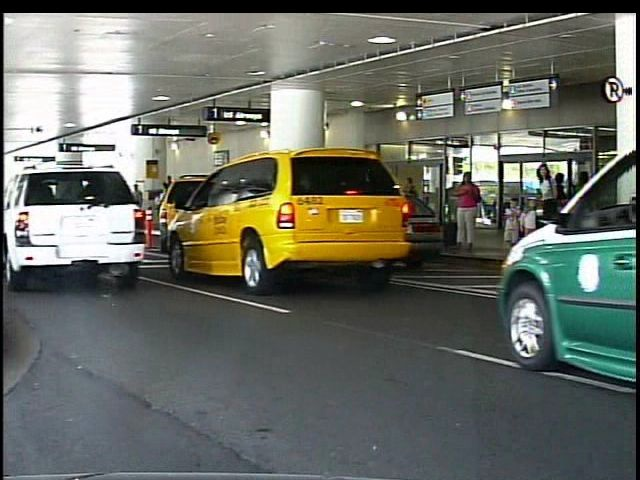person: (454, 168, 483, 254), (537, 162, 561, 221), (552, 172, 572, 242), (509, 197, 529, 253), (522, 202, 542, 235)
